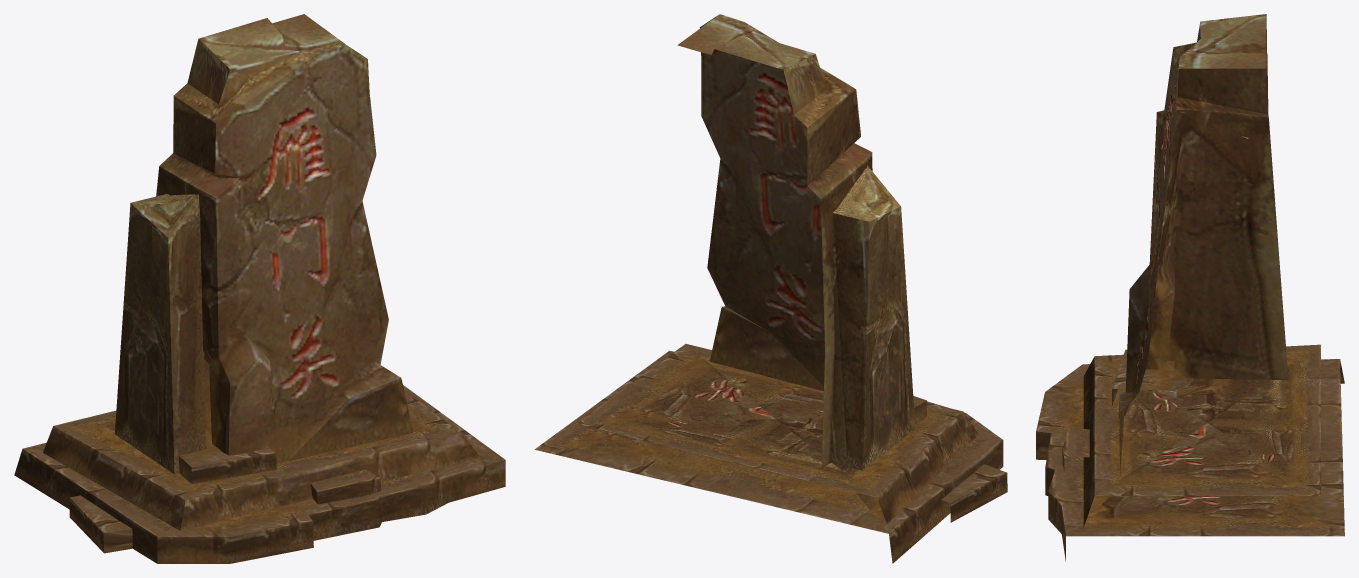
The model's file is yw_yanmenguan_shibei.FBX.
3 renders of one model, left to right at view 1: azimuth 30°, elevation 25°; view 2: azimuth 150°, elevation 25°; view 3: azimuth 270°, elevation 25°, orthographic. The views are drawn at different scales.
Visible parts, largest first — view 1: yw_yanmenguan_shibei; view 2: yw_yanmenguan_shibei; view 3: yw_yanmenguan_shibei.
Boxes of the visible parts, left/top/right/bottom form: yw_yanmenguan_shibei: left=14, top=14, right=505, bottom=563; yw_yanmenguan_shibei: left=534, top=14, right=1007, bottom=563; yw_yanmenguan_shibei: left=1036, top=14, right=1344, bottom=561.
Size of the model in its own units: 115 by 129 by 80.33.
